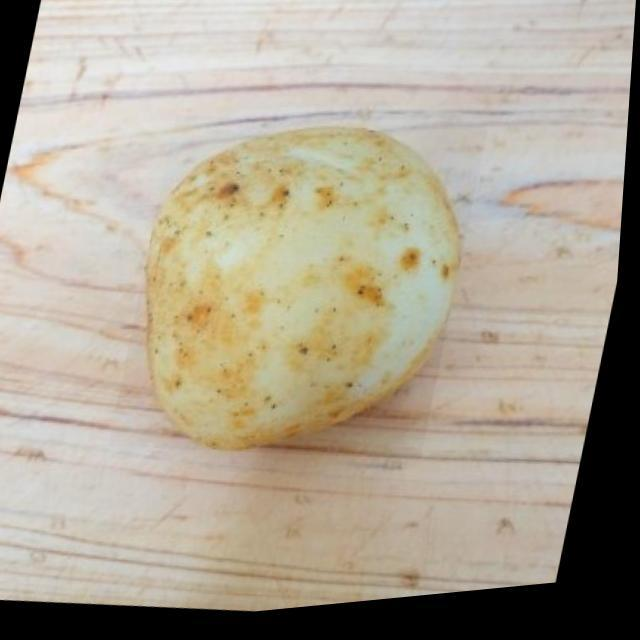Potato: (113, 95, 493, 492)
